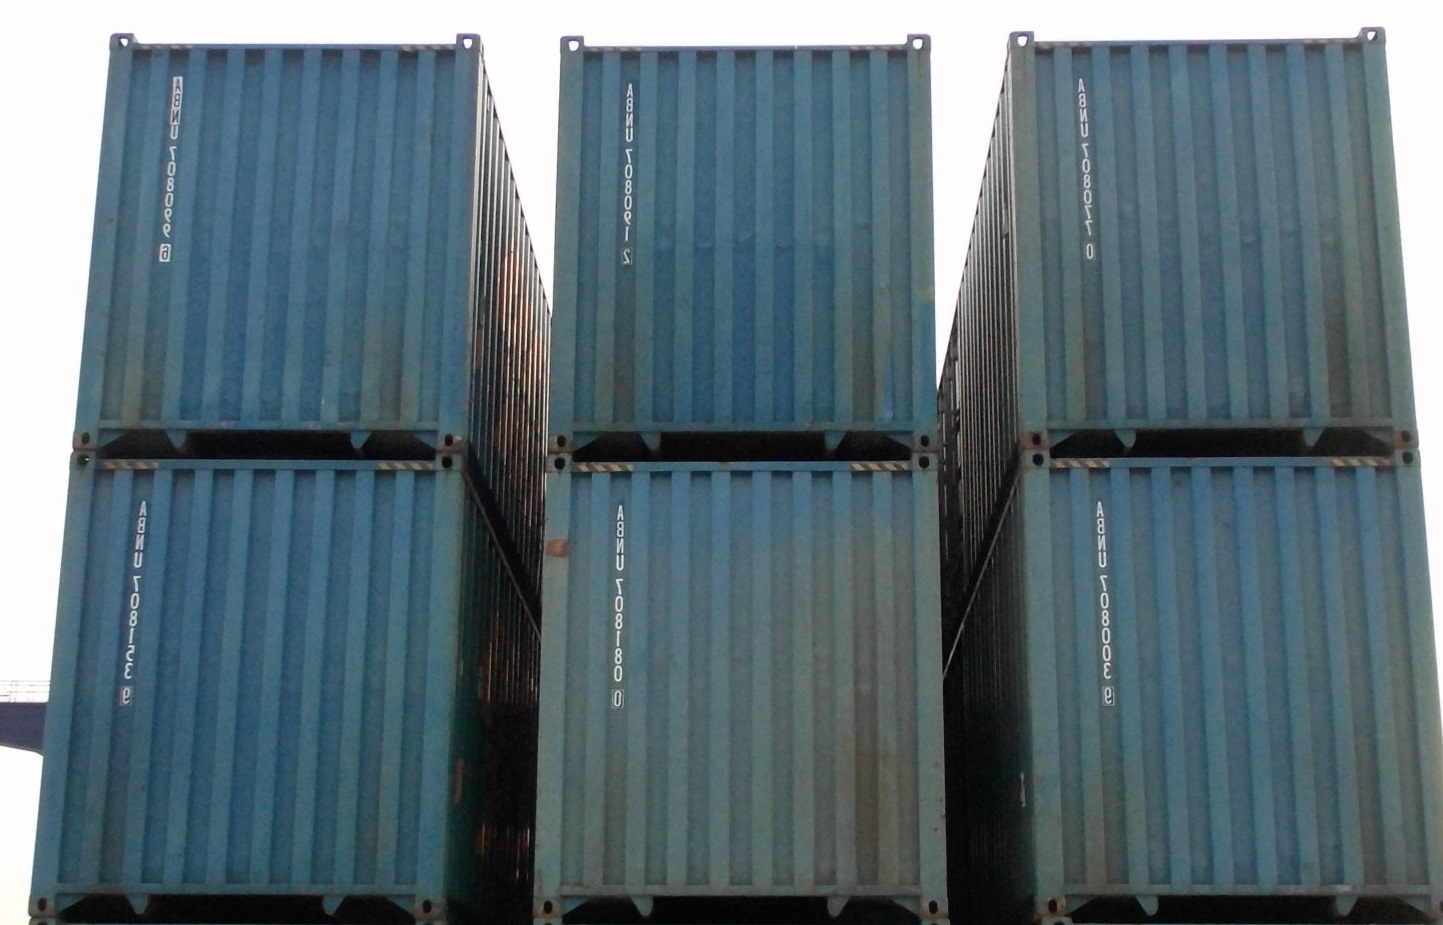container_no_door: (540, 444, 954, 925), (38, 444, 452, 925), (1034, 444, 1430, 925), (75, 37, 484, 454), (1009, 27, 1417, 443), (538, 31, 946, 447)
